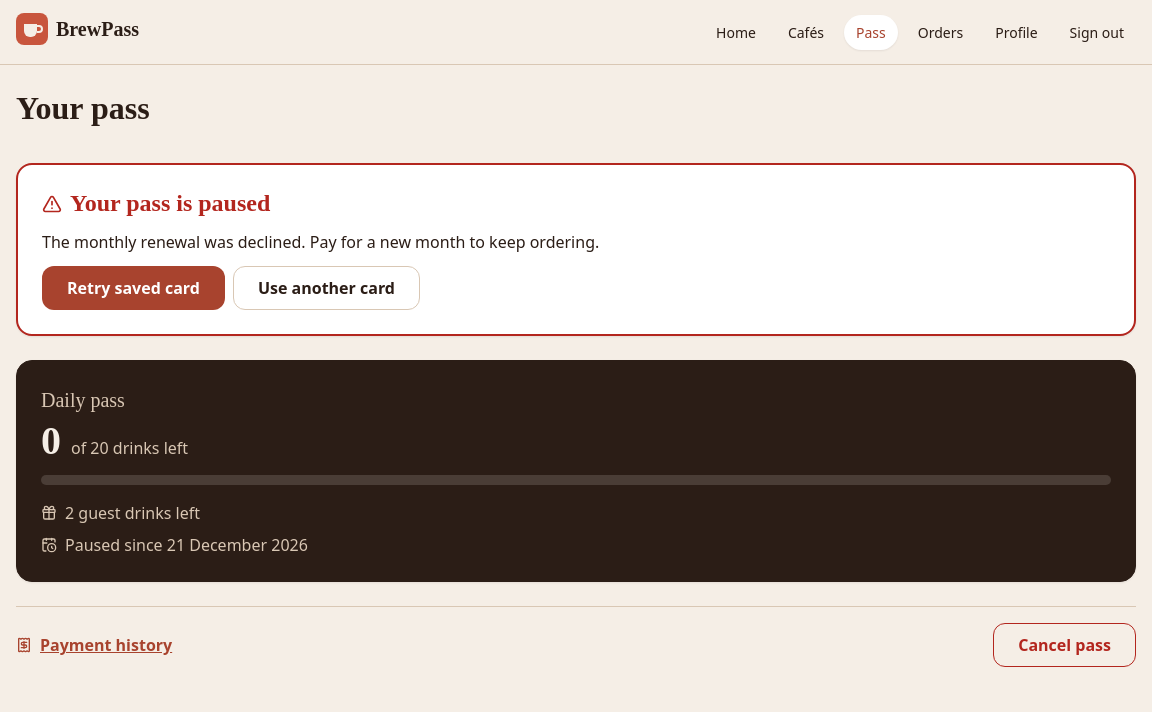
managing a pass › lets a paused member retry the saved card
The width and height of the screenshot is (1152, 712).
expect the heading "Your pass is paused" is shown: met, box 42,190 -> 270,216
expect the heading "change pass" is not shown: met
Click the button "Retry saved card" at (133, 288), box 42,266 -> 225,310
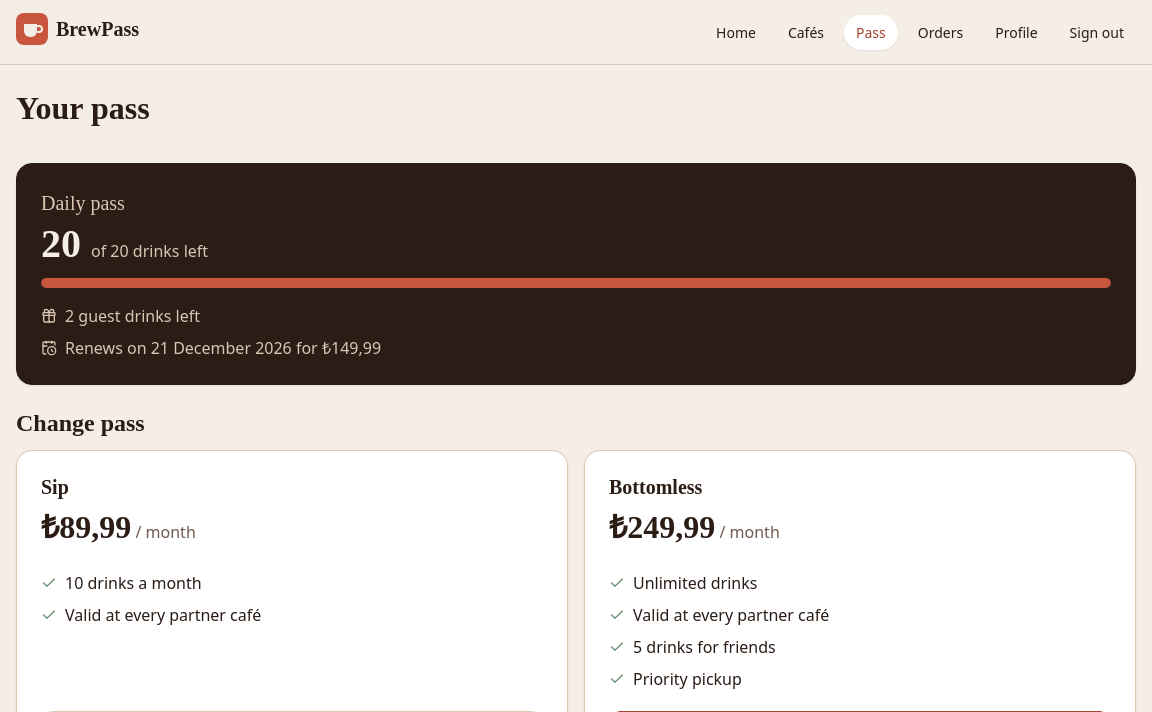
expect the heading "is paused" is gone: met
